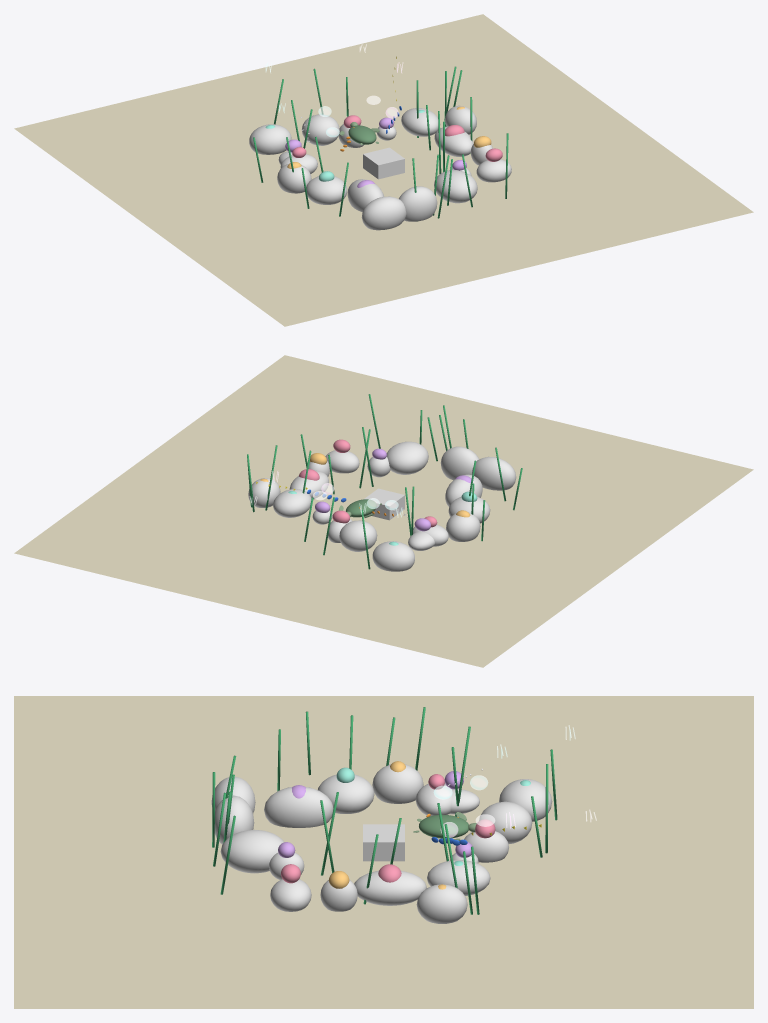
Rendered from aquarium_experience.glb.
The picture shows the model from 3 angles, top to bottom: view 1: azimuth 30°, elevation 25°; view 2: azimuth 150°, elevation 25°; view 3: azimuth 270°, elevation 25°; orthographic projection. The views are drawn at different scales.
Visible parts, largest first — view 1: Ocean_Sand_Floor, Reef_Base_12, Reef_Base_13, Reef_Base_14, Cube, Reef_Base_6, Reef_Base_5, Reef_Base_10, Reef_Base_2, Reef_Base_9, Reef_Base_11, Reef_Base_0 (+2 smaller); view 2: Ocean_Sand_Floor, Reef_Base_14, Reef_Base_12, Reef_Base_6, Reef_Base_5, Reef_Base_13, Reef_Base_2, Cube, Reef_Base_9, Reef_Base_1, Reef_Base_11, Reef_Base_16 (+2 smaller); view 3: Ocean_Sand_Floor, Reef_Base_11, Reef_Base_14, Reef_Base_0, Reef_Base_1, Reef_Base_9, Reef_Base_10, Cube, Reef_Base_5, Reef_Base_2, Reef_Base_6, Reef_Base_13 (+7 smaller).
Part boxes in pixels (left/top/right/bottom): Ocean_Sand_Floor: left=14, top=14, right=753, bottom=326; Reef_Base_12: left=361, top=196, right=406, bottom=230; Reef_Base_13: left=399, top=186, right=437, bottom=221; Reef_Base_14: left=434, top=170, right=477, bottom=203; Cube: left=363, top=147, right=404, bottom=179; Reef_Base_6: left=249, top=124, right=291, bottom=154; Reef_Base_5: left=301, top=114, right=339, bottom=145; Reef_Base_10: left=306, top=176, right=347, bottom=204; Reef_Base_2: left=401, top=108, right=440, bottom=136; Reef_Base_9: left=277, top=164, right=311, bottom=193; Reef_Base_11: left=347, top=179, right=383, bottom=211; Reef_Base_0: left=434, top=126, right=473, bottom=156; Ocean_Sand_Floor: left=14, top=355, right=753, bottom=667; Reef_Base_14: left=386, top=441, right=428, bottom=474; Reef_Base_12: left=472, top=456, right=516, bottom=490; Reef_Base_6: left=372, top=541, right=414, bottom=571; Reef_Base_5: left=339, top=520, right=377, bottom=551; Reef_Base_13: left=440, top=446, right=479, bottom=480; Reef_Base_2: left=273, top=489, right=311, bottom=517; Cube: left=364, top=488, right=404, bottom=520; Reef_Base_9: left=446, top=512, right=480, bottom=541; Reef_Base_1: left=248, top=478, right=280, bottom=507; Reef_Base_11: left=445, top=474, right=482, bottom=506; Reef_Base_16: left=325, top=450, right=359, bottom=473; Ocean_Sand_Floor: left=14, top=696, right=753, bottom=1008; Reef_Base_11: left=264, top=787, right=333, bottom=827; Reef_Base_14: left=220, top=829, right=284, bottom=873; Reef_Base_0: left=354, top=870, right=426, bottom=905; Reef_Base_1: left=416, top=884, right=467, bottom=923; Reef_Base_9: left=372, top=764, right=423, bottom=803; Reef_Base_10: left=318, top=774, right=374, bottom=813; Cube: left=363, top=824, right=404, bottom=861; Reef_Base_5: left=479, top=801, right=532, bottom=844; Reef_Base_2: left=427, top=860, right=490, bottom=895; Reef_Base_6: left=499, top=779, right=552, bottom=821; Reef_Base_13: left=214, top=795, right=254, bottom=844.
Bounding box in the file's own units: 35 × 5.9 × 35.
